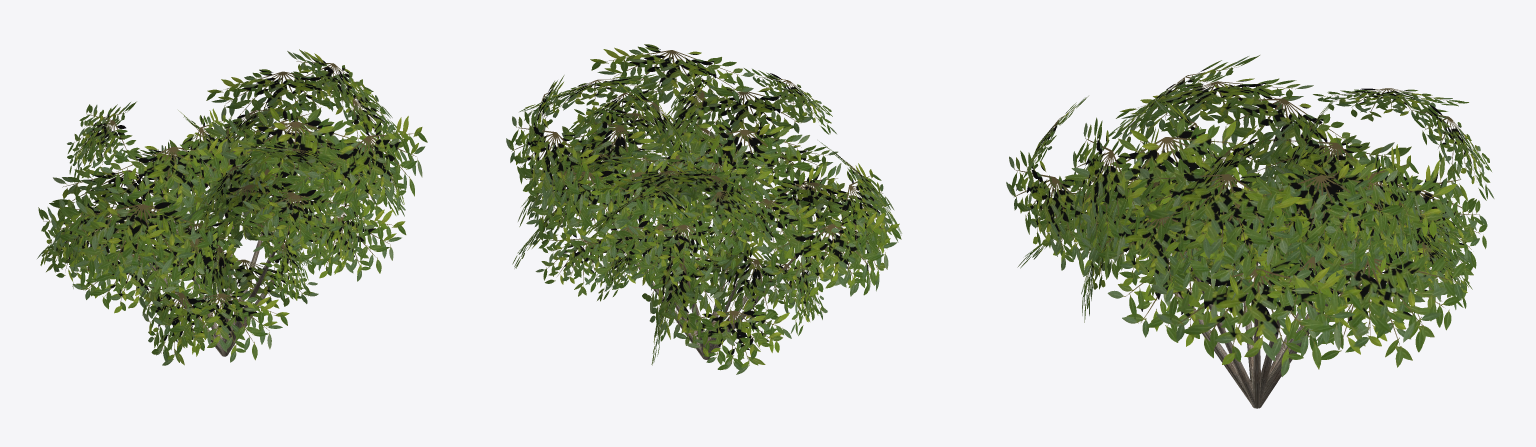
Rendered from shrub_01.glb.
The picture shows the model from 3 angles, left to right: view 1: azimuth 30°, elevation 25°; view 2: azimuth 150°, elevation 25°; view 3: azimuth 270°, elevation 25°; orthographic projection. The views are drawn at different scales.
Visible parts, largest first — view 1: shrub_01; view 2: shrub_01; view 3: shrub_01.
Part boxes in pixels (bbox=[...]): shrub_01: bbox=[37, 49, 427, 365]; shrub_01: bbox=[506, 44, 901, 374]; shrub_01: bbox=[1006, 55, 1494, 408].
Size of the model in its own units: 2.63 by 1.7 by 2.31.
2 materials, 2 textured.
